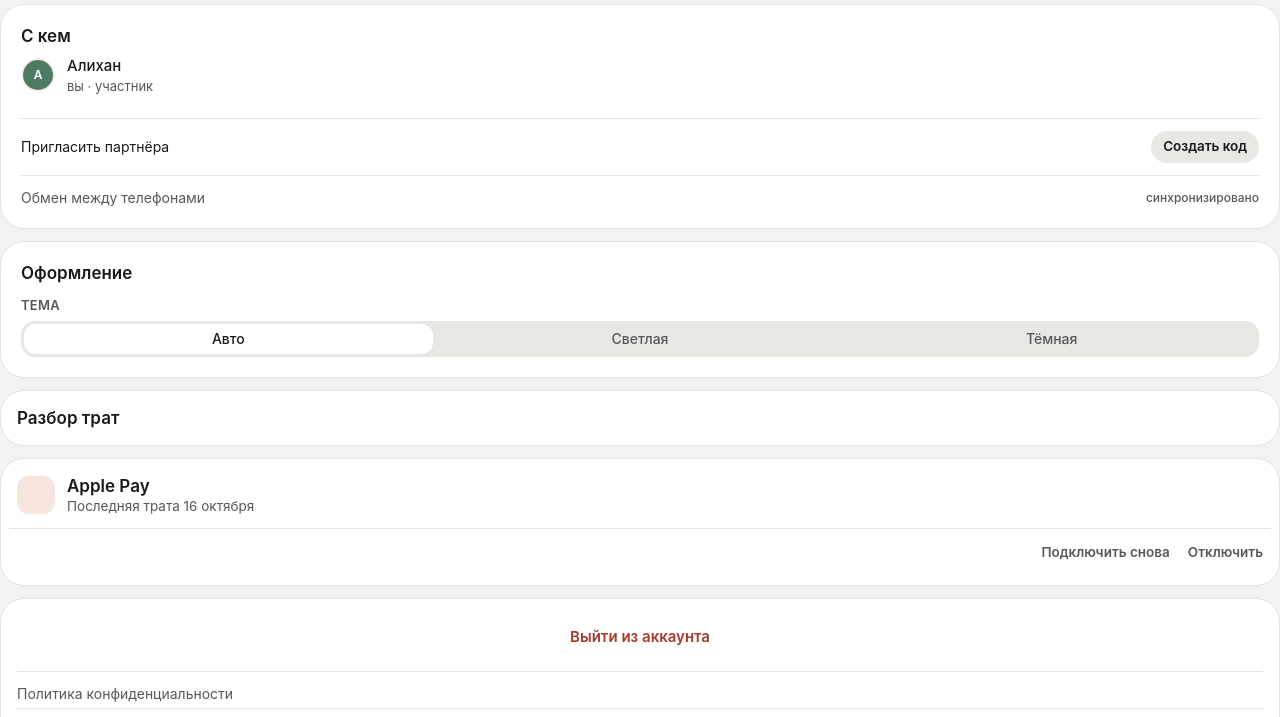
Test: настройки — карточка «Apple Pay» › подключено — «Отключить» → подтверждение → отключено, снова «Подключить»
Expected: the text "Последняя трата 16 октября" is shown, [67, 498, 254, 514]
Click the button "Отключить" at (1225, 553), box [1180, 537, 1271, 569]
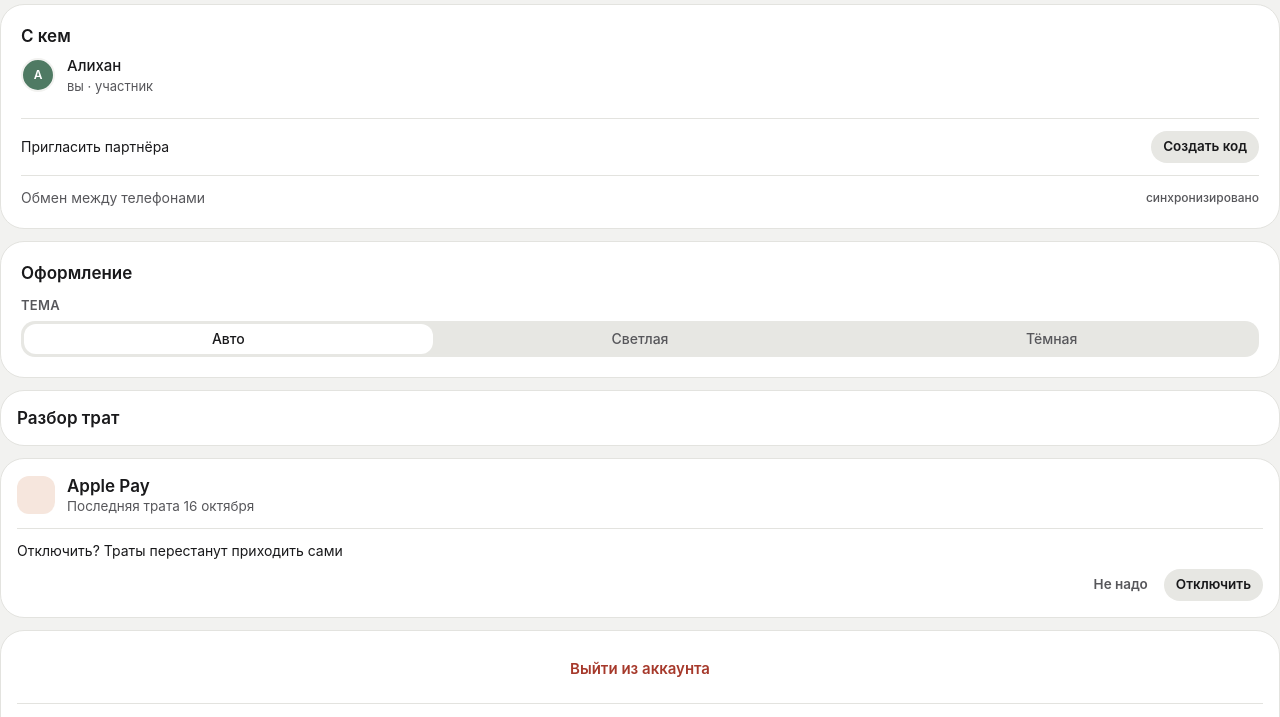
Expected: the element showing "Отключить? Траты перестанут приходить сами Не надо Отключить" is shown, [17, 528, 1263, 601]
Click the button "Отключить" at (1213, 585), box [1164, 569, 1263, 601]
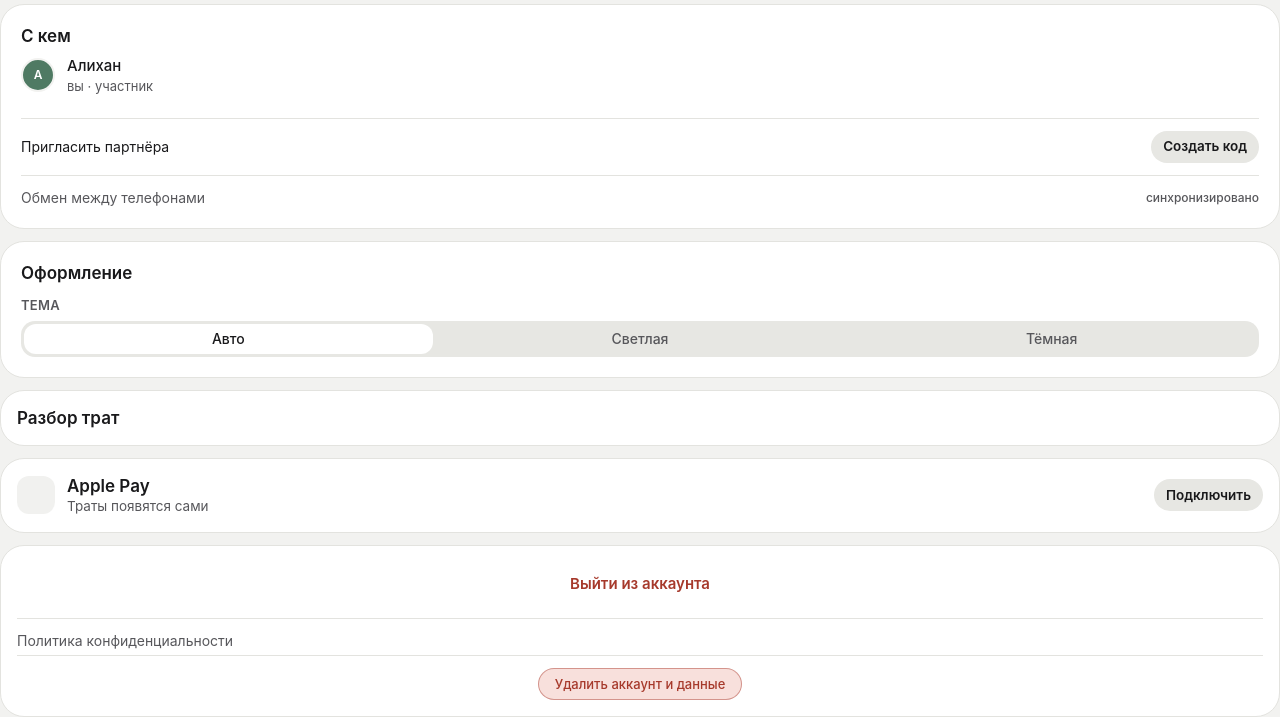
Expected: the button "Подключить" is shown, [1154, 479, 1263, 511]
